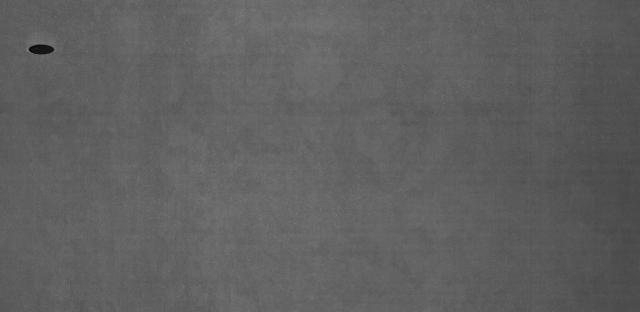punching_hole: (26, 43, 57, 57)
